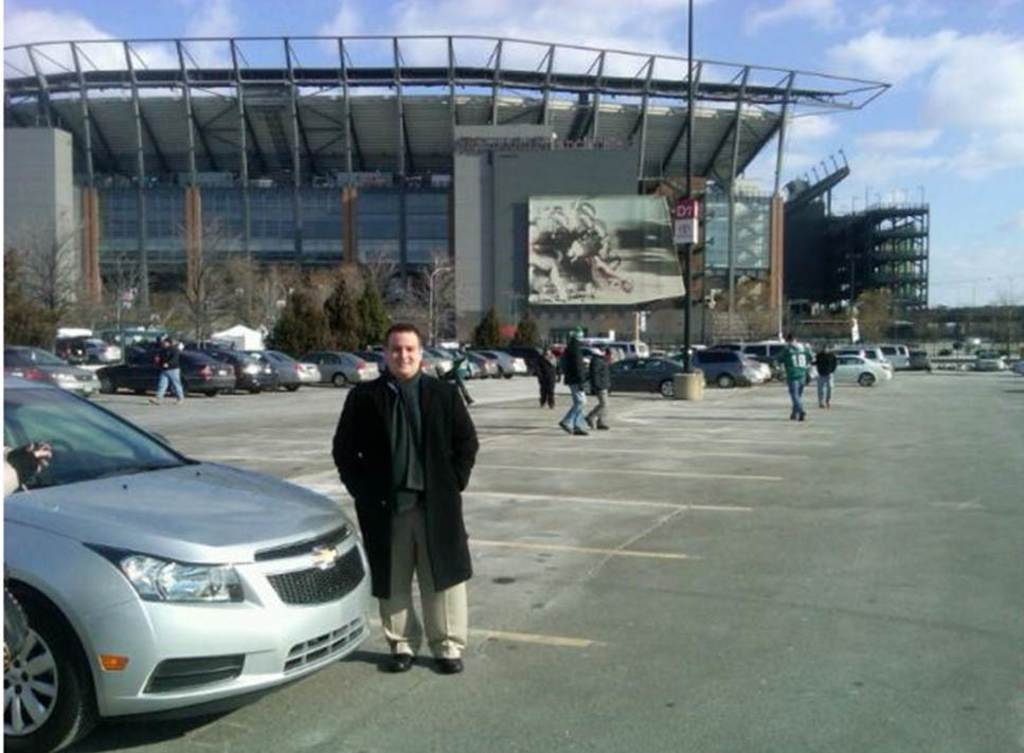cars: (0, 327, 910, 752), (0, 375, 373, 751), (109, 335, 241, 396), (1, 335, 107, 396), (171, 337, 278, 385), (598, 355, 704, 397), (694, 342, 769, 394), (300, 346, 382, 391), (247, 344, 320, 390), (742, 341, 816, 385), (821, 349, 892, 392), (967, 340, 1009, 374)
